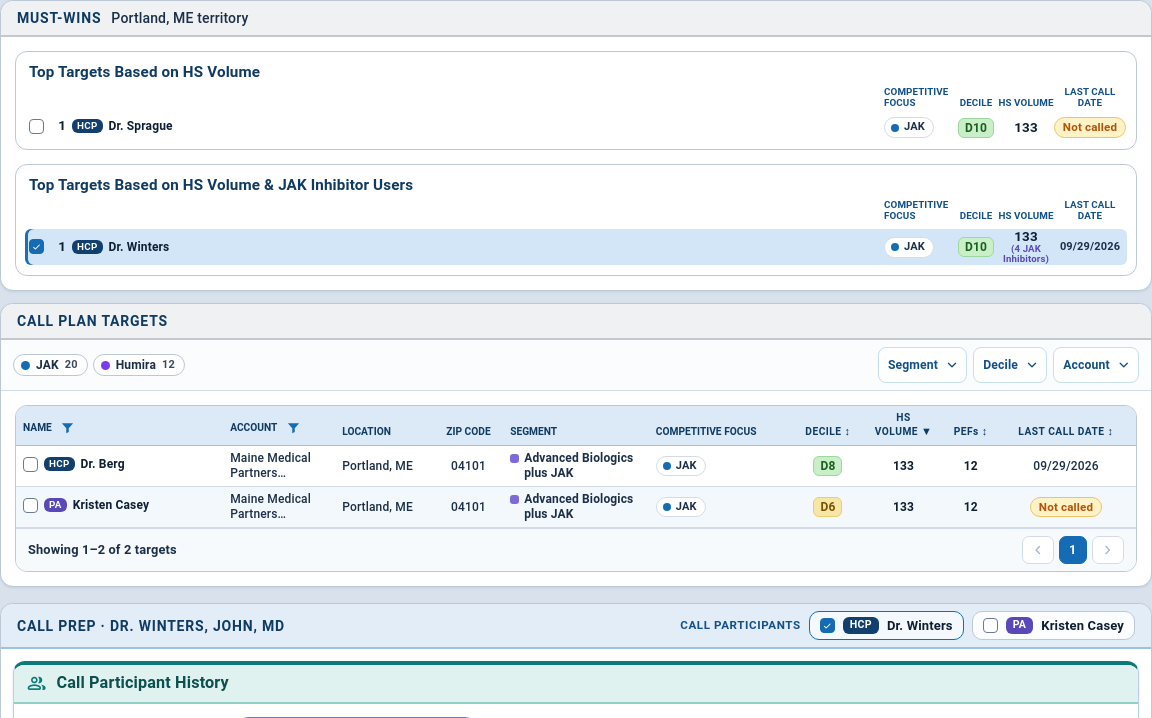
Test: Pre-Call Planning › adds the PA as a meeting participant
Click the button "PA Kristen Casey". click: (1053, 626)
box: [972,611,1135,640]
(page scrolled)
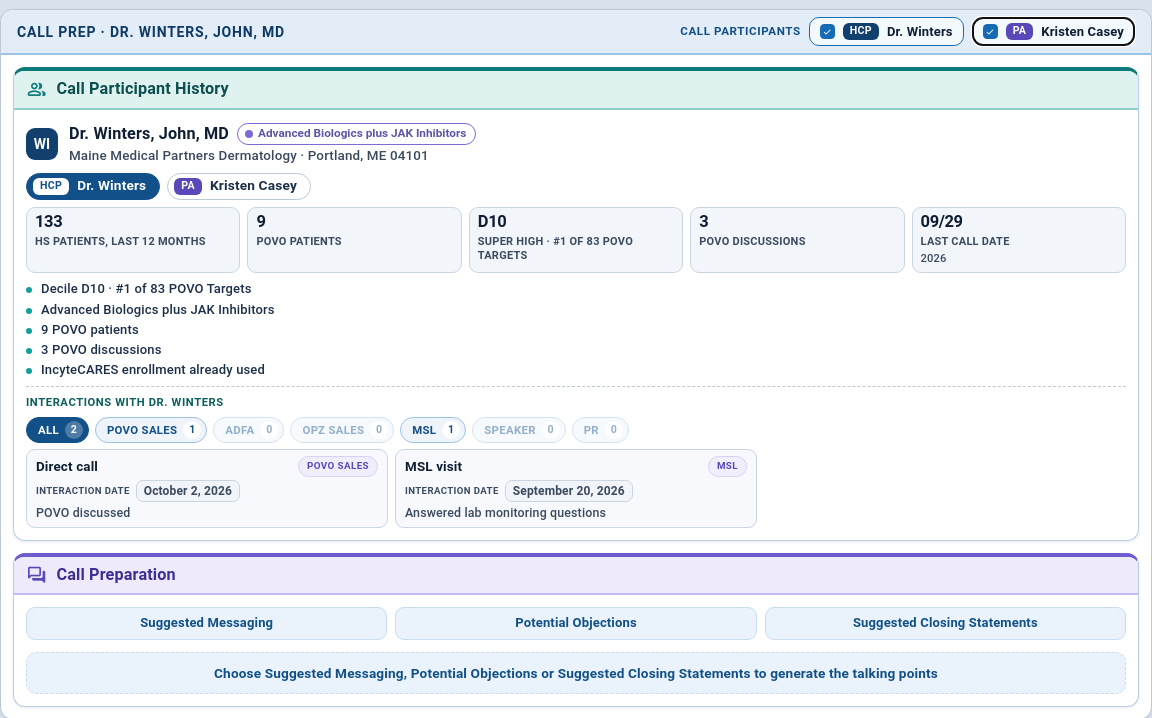
Now the tab "PA Kristen Casey" is shown, box [167,173,311,200]
